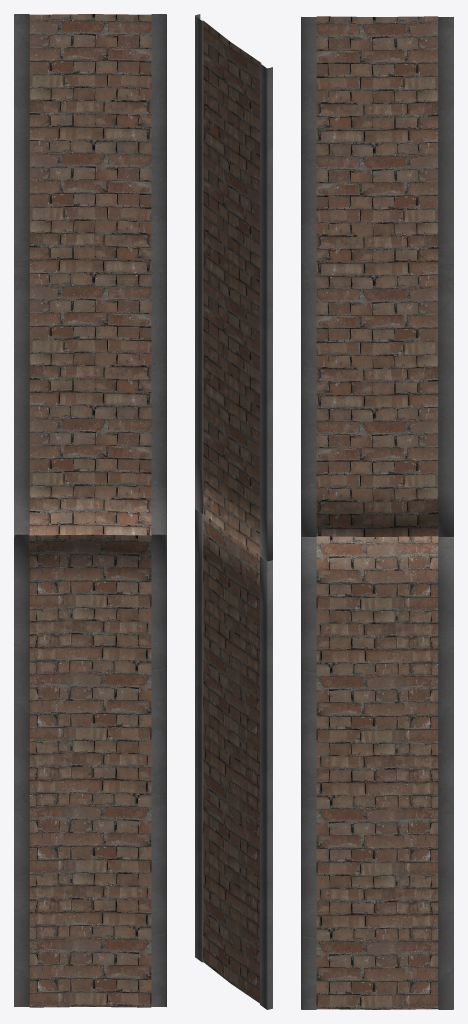
Rendered from cP_Pathway01_Straight.dae.
3 views of the same model, side by side, from view 1: azimuth 90°, elevation 25°; view 2: azimuth 210°, elevation 25°; view 3: azimuth 270°, elevation 25° (orthographic). The views are drawn at different scales.
Parts seen in each view (by area): view 1: cP_Pathway01_Straight.001; view 2: cP_Pathway01_Straight.001; view 3: cP_Pathway01_Straight.001.
Part boxes in pixels (<box>): cP_Pathway01_Straight.001: <box>14,14,166,1007</box>; cP_Pathway01_Straight.001: <box>195,14,272,1009</box>; cP_Pathway01_Straight.001: <box>301,16,453,1009</box>.
Size of the model in its own units: 0.0939 by 1.95 by 14.
